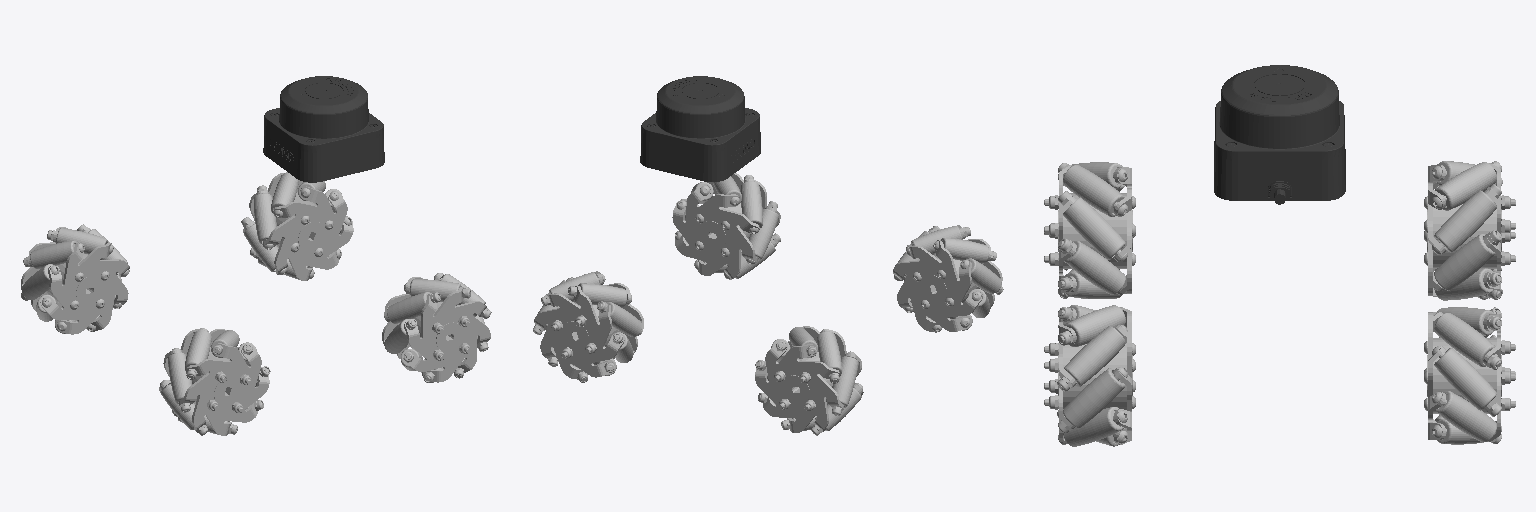
The robot description file, URDF, robot "assembly_for_urdf":
<?xml version="1.0"?>
<robot name="assembly_for_urdf">

  <link name="base_footprint"/>

  <joint name="base_footprint_joint" type="fixed">
    <parent link="base_footprint"/>
    <child link="base_link"/>
    <origin xyz="0 0 0" rpy="0 0 0"/>
  </joint>

  <link name="base_link"/>

  <joint name="chassis_joint" type="fixed">
    <parent link="base_link"/>
    <child link="chassis_link"/>
    <origin xyz="-0.6986 1.338 -0.88691"/>
  </joint>

  <link name="chassis_link">
    <inertial>
      <origin xyz="0 0 0" rpy="0 0 0"/>
      <mass value="0.587421422264195"/>
      <inertia
        ixx="0.000460556536882904" ixy="-3.95902913553881E-05" ixz="-4.08699152625963E-06"
        iyy="0.0018607603469361" iyz="-2.99347026067922E-07" izz="0.00150117181600011"/>
    </inertial>
    <visual>
      <origin xyz="0 0 0" rpy="0 0 0"/>
      <geometry>
        <mesh filename="package://auto_car_description/meshes/chassis_link.STL"/>
      </geometry>
      <material name="">
        <color rgba="0.752941176470588 0.752941176470588 0.752941176470588 1"/>
      </material>
    </visual>
    <collision>
      <origin xyz="0 0 0" rpy="0 0 0"/>
      <geometry>
        <box size="0.22713 0.121 0.033"/>
      </geometry>
    </collision>
  </link>

  <link name="front_right_wheel_link">
    <inertial>
      <origin xyz="-1.5092230508551E-05 0.015311291363435 3.11265845716058E-05" rpy="0 0 0"/>
      <mass value="0.0536934866822392"/>
      <inertia
        ixx="5.73491871355838E-06" ixy="-2.61059975080162E-11" ixz="1.47748729726266E-10"
        iyy="6.54339836267483E-06" iyz="-3.80479098173267E-11" izz="5.7342806732556E-06"/>
    </inertial>
    <visual>
      <origin xyz="0 0 0" rpy="0 0 0"/>
      <geometry>
        <mesh filename="package://auto_car_description/meshes/front_right_wheel_link.STL"/>
      </geometry>
      <material name="">
        <color rgba="0.752941176470588 0.752941176470588 0.752941176470588 1"/>
      </material>
    </visual>
    <collision>
      <origin xyz="0 0.0153 0" rpy="1.5708 0 0"/>
      <geometry>
        <cylinder radius="0.030" length="0.030"/>
      <surface>
        <friction>
          <ode>
            <mu>1.0</mu>
            <mu2>1.0</mu2>
          </ode>
        </friction>
      </surface>
      </geometry>
    </collision>
  </link>

  <joint name="front_right_wheel_joint" type="continuous">
    <origin xyz="0.62608 -1.2445 0.91691" rpy="0 0 3.1416"/>
    <parent link="chassis_link"/>
    <child link="front_right_wheel_link"/>
    <axis xyz="0 1 0"/>
    <dynamics damping="0.1" friction="0.1"/>
  </joint>

  <link name="front_left_wheel_link">
    <inertial>
      <origin xyz="5.91415805217821E-13 -0.0153279724710507 1.55864210427126E-12" rpy="0 0 0"/>
      <mass value="0.0536235654026291"/>
      <inertia
        ixx="5.73404904590935E-06" ixy="3.90479839306107E-17" ixz="-2.07885647253931E-10"
        iyy="6.54310722970969E-06" iyz="9.62187415013861E-17" izz="5.73461421348107E-06"/>
    </inertial>
    <visual>
      <origin xyz="0 0 0" rpy="0 0 0"/>
      <geometry>
        <mesh filename="package://auto_car_description/meshes/front_left_wheel_link.STL"/>
      </geometry>
      <material name="">
        <color rgba="0.752941176470588 0.752941176470588 0.752941176470588 1"/>
      </material>
    </visual>
    <collision>
      <origin xyz="0 -0.0153 0" rpy="1.5708 0 0"/>
      <geometry>
        <cylinder radius="0.030" length="0.030"/>
      <surface>
        <friction>
          <ode>
            <mu>1.0</mu>
            <mu2>1.0</mu2>
          </ode>
        </friction>
      </surface>
      </geometry>
    </collision>
  </link>

  <joint name="front_left_wheel_joint" type="continuous">
    <origin xyz="0.62608 -1.432 0.91691" rpy="0 0 3.1416"/>
    <parent link="chassis_link"/>
    <child link="front_left_wheel_link"/>
    <axis xyz="0 1 0"/>
    <dynamics damping="0.1" friction="0.1"/>
  </joint>

  <link name="back_right_wheel_link">
    <inertial>
      <origin xyz="-1.47748480117116E-12 0.015327972470953 7.86593012946923E-13" rpy="0 0 0"/>
      <mass value="0.0536235654025979"/>
      <inertia
        ixx="5.7340889500821E-06" ixy="9.2610545788829E-17" ixz="-2.53331092662428E-10"
        iyy="6.54310722971889E-06" iyz="-5.09878787203795E-17" izz="5.73457430930912E-06"/>
    </inertial>
    <visual>
      <origin xyz="0 0 0" rpy="0 0 0"/>
      <geometry>
        <mesh filename="package://auto_car_description/meshes/back_right_wheel_link.STL"/>
      </geometry>
      <material name="">
        <color rgba="0.752941176470588 0.752941176470588 0.752941176470588 1"/>
      </material>
    </visual>
    <collision>
      <origin xyz="0 0.0153 0" rpy="1.5708 0 0"/>
      <geometry>
        <cylinder radius="0.030" length="0.030"/>
      <surface>
        <friction>
          <ode>
            <mu>1.0</mu>
            <mu2>1.0</mu2>
          </ode>
        </friction>
      </surface>
      </geometry>
    </collision>
  </link>

  <joint name="back_right_wheel_joint" type="continuous">
    <origin xyz="0.77108 -1.2445 0.91691" rpy="0 0 3.1416"/>
    <parent link="chassis_link"/>
    <child link="back_right_wheel_link"/>
    <axis xyz="0 -1 0"/>
    <dynamics damping="0.1" friction="0.1"/>
  </joint>

  <link name="back_left_wheel_link">
    <inertial>
      <origin xyz="9.81132275645891E-06 -0.0153112913634179 3.31719395489927E-05" rpy="0 0 0"/>
      <mass value="0.0536934866827212"/>
      <inertia
        ixx="5.73494929557079E-06" ixy="-3.19640960455031E-11" ixz="-3.71734901295681E-11"
        iyy="6.54339836266498E-06" iyz="3.32785548366247E-11" izz="5.73425009124004E-06"/>
    </inertial>
    <visual>
      <origin xyz="0 0 0" rpy="0 0 0"/>
      <geometry>
        <mesh filename="package://auto_car_description/meshes/back_left_wheel_link.STL"/>
      </geometry>
      <material name="">
        <color rgba="0.752941176470588 0.752941176470588 0.752941176470588 1"/>
      </material>
    </visual>
    <collision>
      <origin xyz="0 -0.0153 0" rpy="1.5708 0 0"/>
      <geometry>
        <cylinder radius="0.030" length="0.030"/>
      <surface>
        <friction>
          <ode>
            <mu>1.0</mu>
            <mu2>1.0</mu2>
          </ode>
        </friction>
      </surface>
      </geometry>
    </collision>
  </link>

  <joint name="back_left_wheel_joint" type="continuous">
    <origin xyz="0.77108 -1.432 0.91691" rpy="0 0 3.1416"/>
    <parent link="chassis_link"/>
    <child link="back_left_wheel_link"/>
    <axis xyz="0 -1 0"/>
    <dynamics damping="0.1" friction="0.1"/>
  </joint>

  <link name="lidar_link">
    <inertial>
      <origin xyz="-7.74814649494582E-05 4.4957855660499E-08 -0.022838362366054" rpy="0 0 0"/>
      <mass value="0.102513123166222"/>
      <inertia
        ixx="3.5050990060965E-05" ixy="-8.48544915785726E-11" ixz="-1.05221513767196E-07"
        iyy="3.53118134327243E-05" iyz="1.36969124350589E-11" izz="4.34973422623282E-05"/>
    </inertial>
    <visual>
      <origin xyz="0 0 0" rpy="0 0 0"/>
      <geometry>
        <mesh filename="package://auto_car_description/meshes/lidar_link.STL"/>
      </geometry>
      <material name="">
        <color rgba="0.298039215686275 0.298039215686275 0.298039215686275 1"/>
      </material>
    </visual>
    <collision>
      <origin xyz="0 0 0" rpy="0 0 0"/>
      <geometry>
        <mesh filename="package://auto_car_description/meshes/lidar_link.STL"/>
      </geometry>
    </collision>
  </link>

  <joint name="lidar_joint" type="fixed">
    <origin xyz="0.74291 -1.3383 1.0394" rpy="0 0 3.1416"/>
    <parent link="chassis_link"/>
    <child link="lidar_link"/>
    <axis xyz="0 0 0"/>
  </joint>

  <gazebo>
    <plugin filename="gz-sim-diff-drive-system" name="gz::sim::systems::DiffDrive">
      <left_joint>front_left_wheel_joint</left_joint>
      <left_joint>back_left_wheel_joint</left_joint>
      <right_joint>front_right_wheel_joint</right_joint>
      <right_joint>back_right_wheel_joint</right_joint>
      <wheel_separation>0.19</wheel_separation>
      <wheel_radius>0.030</wheel_radius>
      <topic>cmd_vel</topic>
      <odom_topic>odom</odom_topic>
      <tf_topic>/tf</tf_topic>
      <frame_id>odom</frame_id>
      <child_frame_id>base_footprint</child_frame_id>
    </plugin>
  </gazebo>

  <gazebo reference="lidar_link">
    <sensor name="lidar" type="gpu_lidar">
      <topic>scan</topic>
      <update_rate>10</update_rate>
      <lidar>
        <scan>
          <horizontal>
            <samples>360</samples>
            <resolution>1</resolution>
            <min_angle>-3.14159</min_angle>
            <max_angle>3.14159</max_angle>
          </horizontal>
        </scan>
        <range>
          <min>0.15</min>
          <max>12.0</max>
          <resolution>0.01</resolution>
        </range>
      </lidar>
      <always_on>1</always_on>
      <visualize>true</visualize>
    </sensor>
  </gazebo>

</robot>

--- What the picture shows (computed from the rendered views, not written in the file) ---
Views: 3 orthographic renders of the robot side by side, from view 1: azimuth 30°, elevation 25°; view 2: azimuth 150°, elevation 25°; view 3: azimuth 270°, elevation 25°.
Robot: assembly_for_urdf — 8 links, 7 joints (4 continuous, 3 fixed); root link base_footprint; default pose: every joint at zero.
Links seen in each view (by area): view 1: lidar_link, front_right_wheel_link, front_left_wheel_link, back_left_wheel_link, back_right_wheel_link; view 2: lidar_link, back_right_wheel_link, front_right_wheel_link, front_left_wheel_link, back_left_wheel_link; view 3: lidar_link, back_left_wheel_link, front_right_wheel_link, back_right_wheel_link, front_left_wheel_link.
Link boxes in pixels (x1,y1,x2,y2): lidar_link: (263, 76, 384, 182); front_right_wheel_link: (21, 224, 129, 334); front_left_wheel_link: (159, 328, 270, 435); back_left_wheel_link: (382, 273, 491, 382); back_right_wheel_link: (241, 172, 353, 280); lidar_link: (640, 76, 760, 181); back_right_wheel_link: (533, 271, 643, 382); front_right_wheel_link: (755, 326, 863, 435); front_left_wheel_link: (893, 225, 1003, 332); back_left_wheel_link: (672, 173, 780, 279); lidar_link: (1214, 65, 1345, 204); back_left_wheel_link: (1044, 305, 1135, 446); front_right_wheel_link: (1424, 161, 1515, 300); back_right_wheel_link: (1424, 307, 1515, 444); front_left_wheel_link: (1044, 162, 1135, 298).
Bounding box of the posed robot: 0.205 × 0.199 × 0.1525 m (x, y, z).
Meshes: 6 distinct files referenced, 5 mesh visuals loaded (5 binary STL); not drawn: 1 (reference not matched to a file when rendering).
